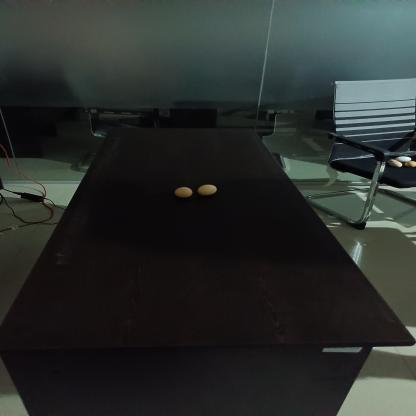egg: (198, 182, 219, 197), (172, 186, 196, 199)
